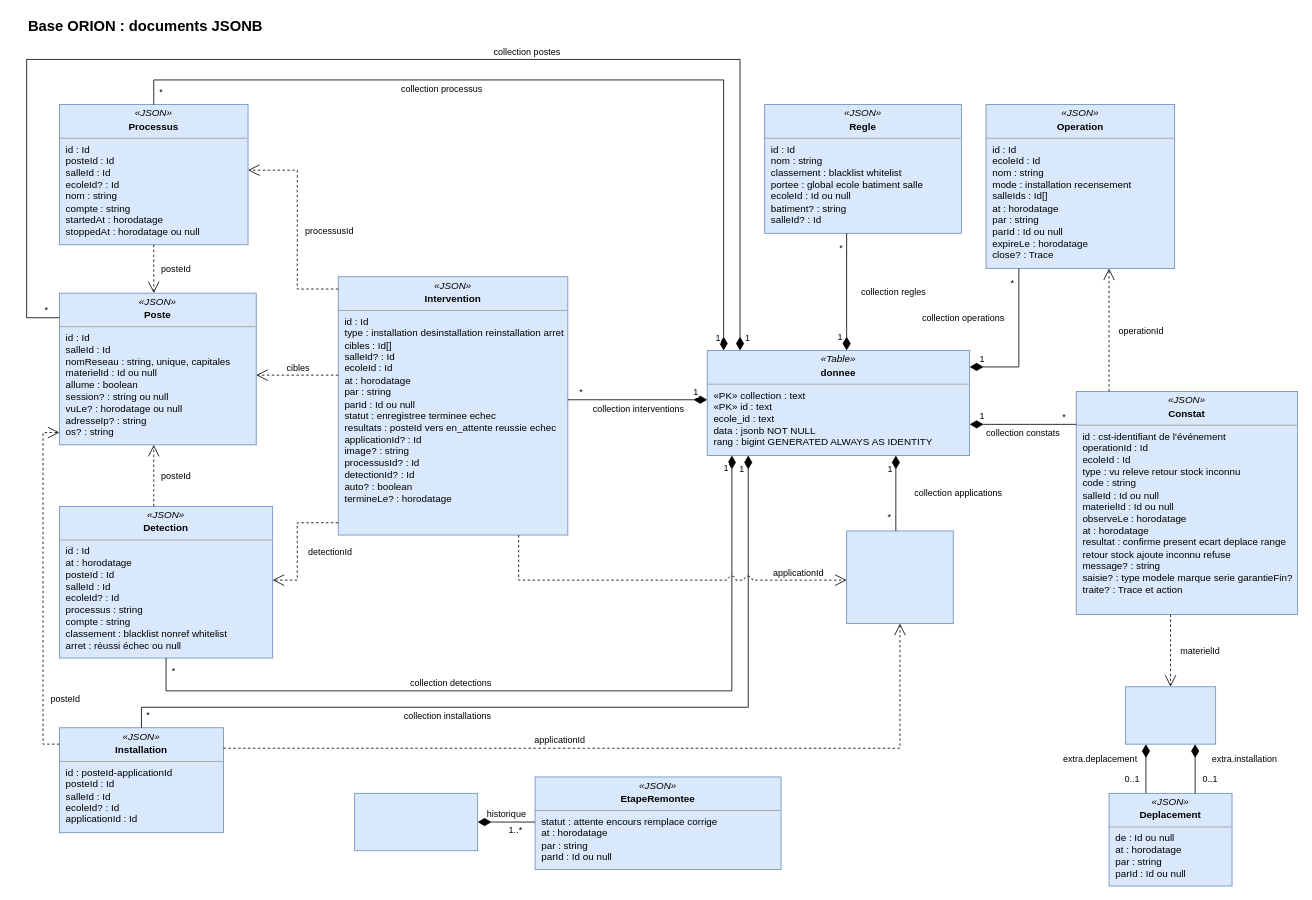
Some shapes in this 1312 by 900 pixel diagram are drawn without their labels. Here are the shapes that lost their labels. From the top down, the box of each, then its label:
(846, 530, 953, 624): «JSON» Application id : Id nom : string version : string editeur : string
(1125, 686, 1216, 744): «Table» materiel extra : jsonb
(354, 793, 478, 851): «Table» remontee historique : jsonb
